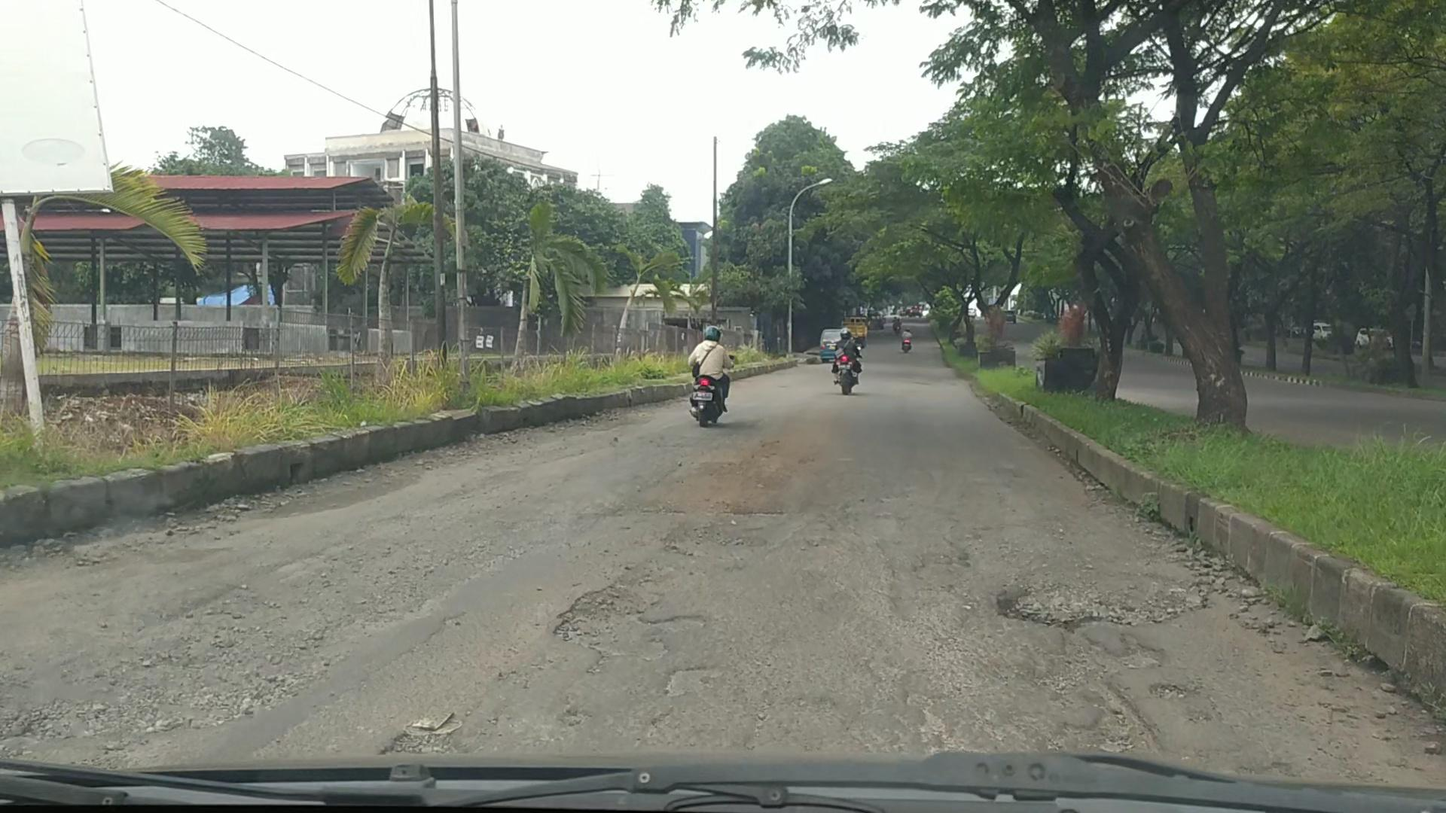pothole: (1001, 574, 1195, 626)
